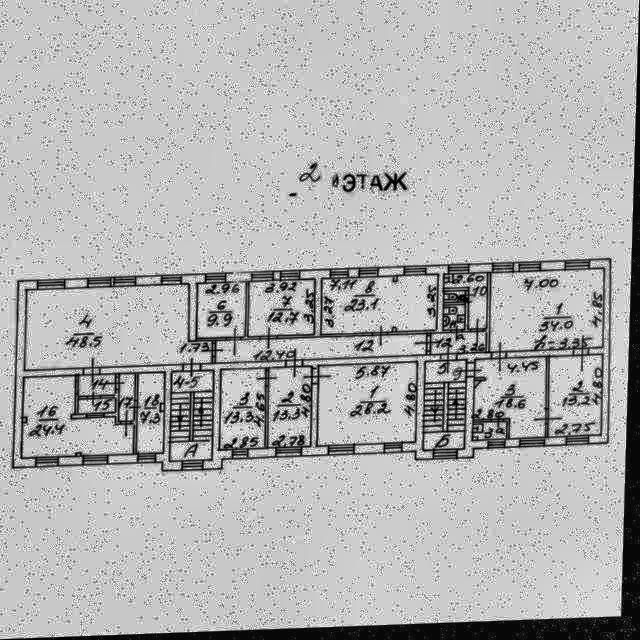room: (25, 285, 215, 370), (489, 273, 609, 355), (22, 374, 137, 458), (317, 365, 422, 447), (322, 278, 442, 337), (217, 336, 430, 365), (476, 359, 549, 443), (550, 358, 606, 442), (173, 371, 217, 463), (222, 368, 270, 452), (426, 363, 470, 454), (248, 281, 318, 338), (270, 368, 315, 450), (198, 283, 248, 341), (445, 276, 490, 333), (139, 373, 168, 455), (432, 334, 490, 358), (80, 375, 118, 397), (121, 374, 137, 422), (475, 424, 510, 443), (80, 399, 118, 414), (446, 307, 467, 333), (445, 294, 468, 306)
